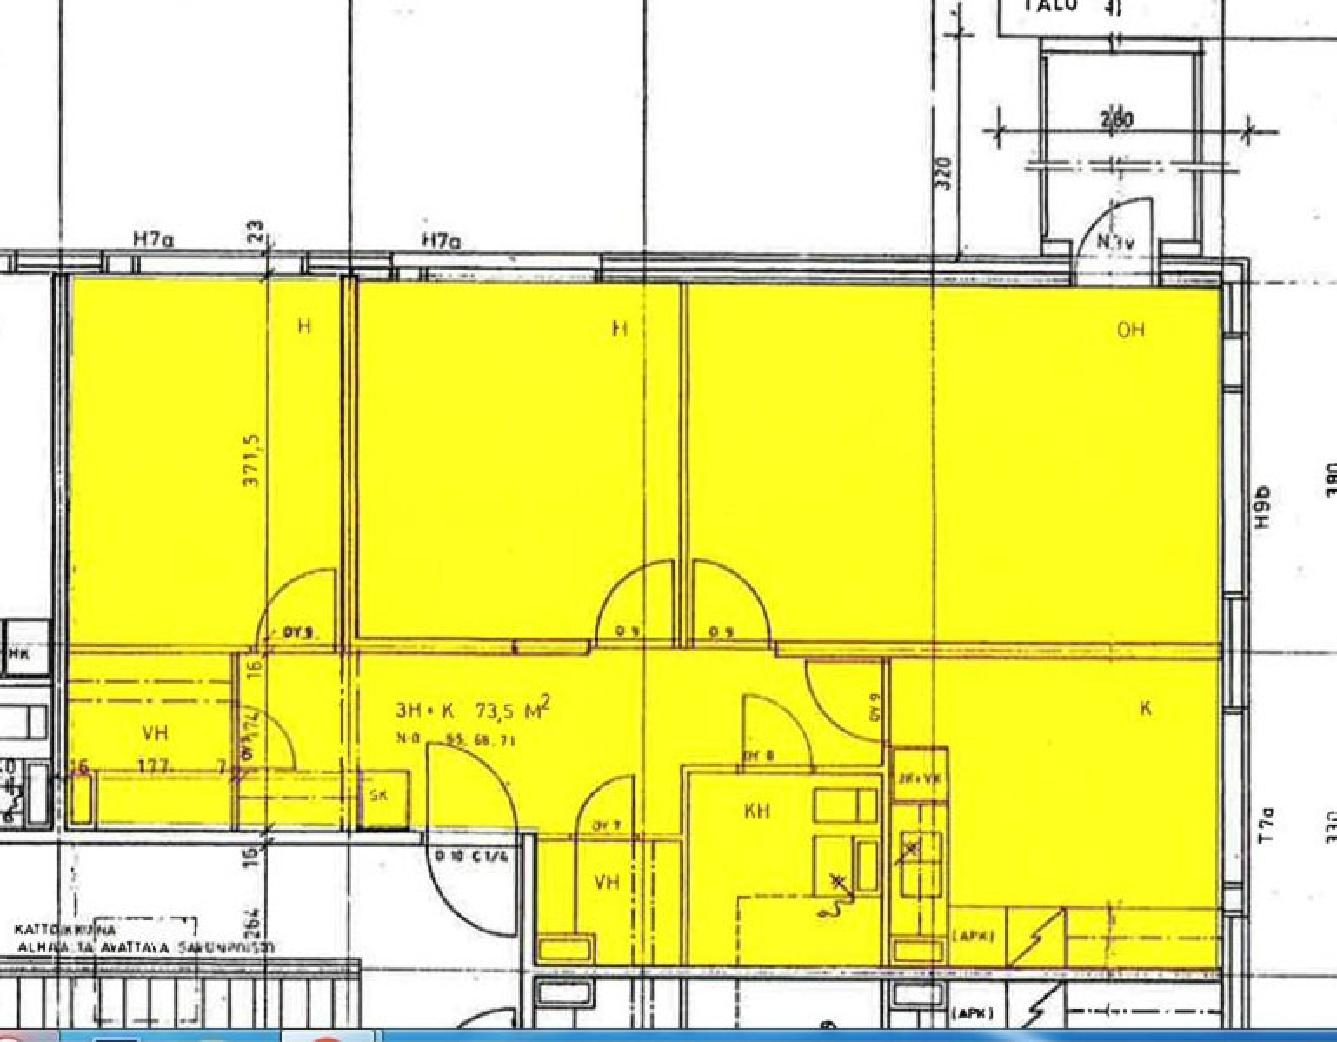door: (687, 278, 1223, 641), (72, 272, 347, 824), (360, 280, 682, 633), (895, 662, 1217, 966), (354, 660, 640, 833), (65, 652, 339, 821), (644, 652, 879, 834), (692, 774, 883, 971), (419, 738, 524, 957), (532, 843, 682, 966), (593, 556, 682, 657), (259, 558, 343, 660), (689, 557, 771, 653), (797, 660, 888, 744), (1068, 204, 1153, 292), (741, 692, 808, 776), (578, 767, 641, 843), (229, 711, 300, 767)
window: (393, 251, 599, 283), (103, 247, 304, 280), (1223, 598, 1245, 706)
